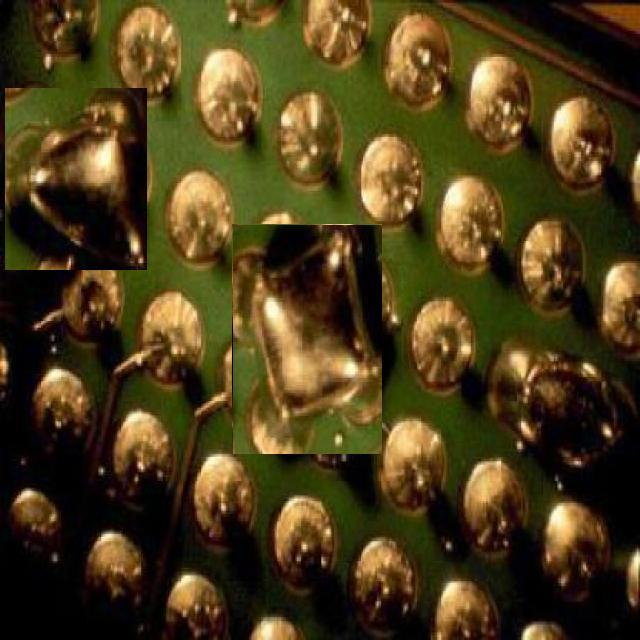Short_circuit: (232, 224, 382, 454), (5, 88, 147, 270)
